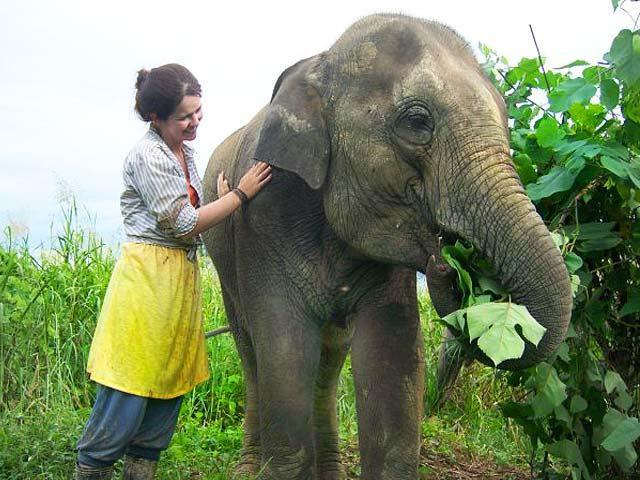elephant: (191, 6, 578, 480)
